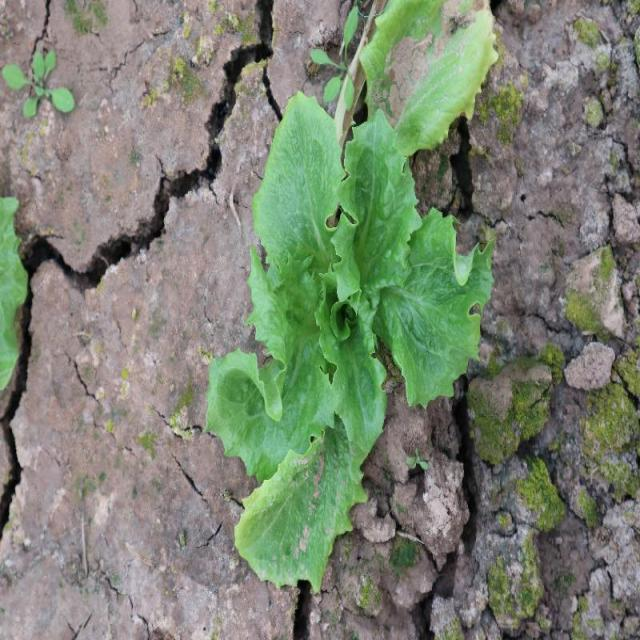crop: (210, 91, 492, 587)
